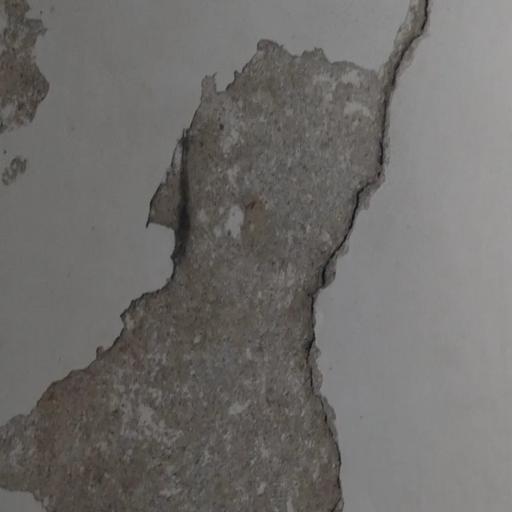spalling: (0, 0, 415, 511)
